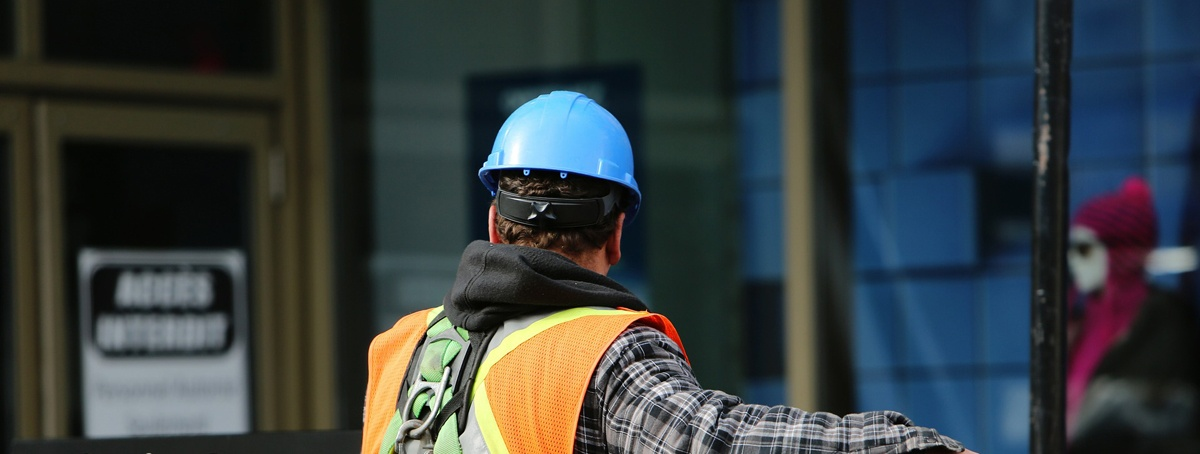blue: (472, 84, 647, 290)
